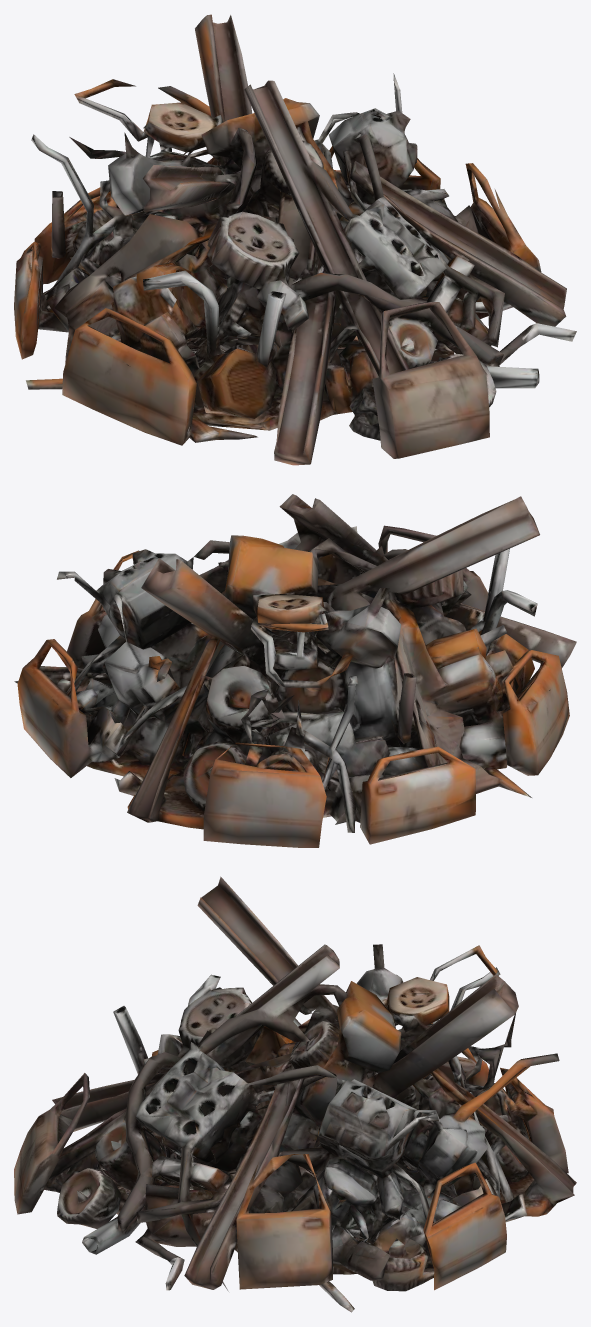
The model's file is debris.glb.
The picture shows the model from 3 angles, top to bottom: view 1: azimuth 30°, elevation 25°; view 2: azimuth 150°, elevation 25°; view 3: azimuth 270°, elevation 25°; orthographic projection. The views are drawn at different scales.
Visible parts, largest first — view 1: Mesh1.0; view 2: Mesh1.0; view 3: Mesh1.0.
Part boxes in pixels (x1,y1,x2,y2): Mesh1.0: (14, 14, 576, 465); Mesh1.0: (14, 494, 576, 847); Mesh1.0: (14, 876, 576, 1312).
Bounding box in the file's own units: 1.89 × 0.9062 × 1.91.
1 material, 1 textured.
